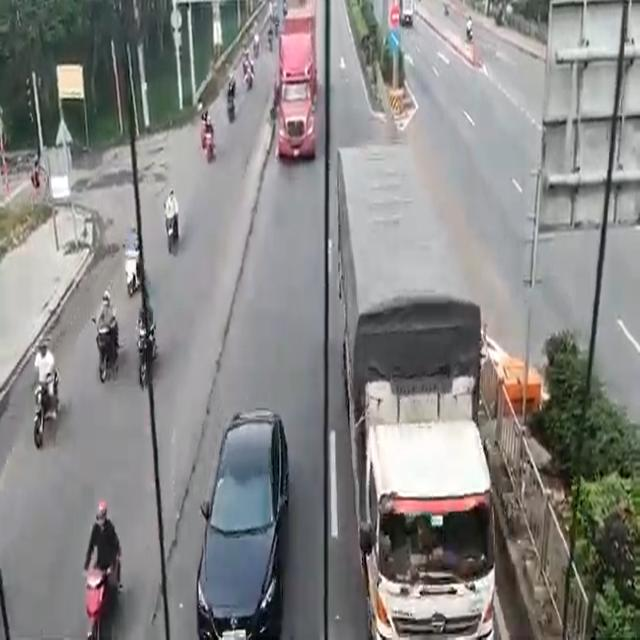car: (211, 409, 281, 638)
motor: (81, 548, 116, 640), (30, 370, 59, 450), (94, 314, 120, 380), (136, 318, 156, 392), (123, 244, 140, 298), (165, 204, 179, 252)
truck: (334, 145, 499, 638), (279, 6, 319, 165)
